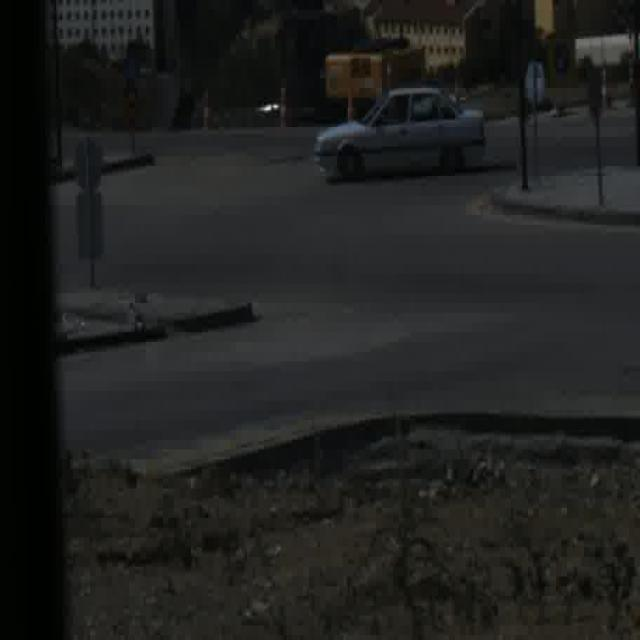Car: (307, 82, 488, 184)
